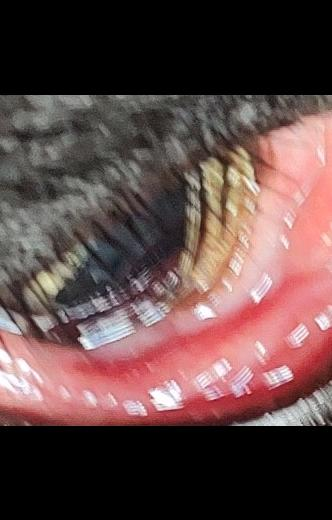eye_membrane: (0, 109, 332, 424)
